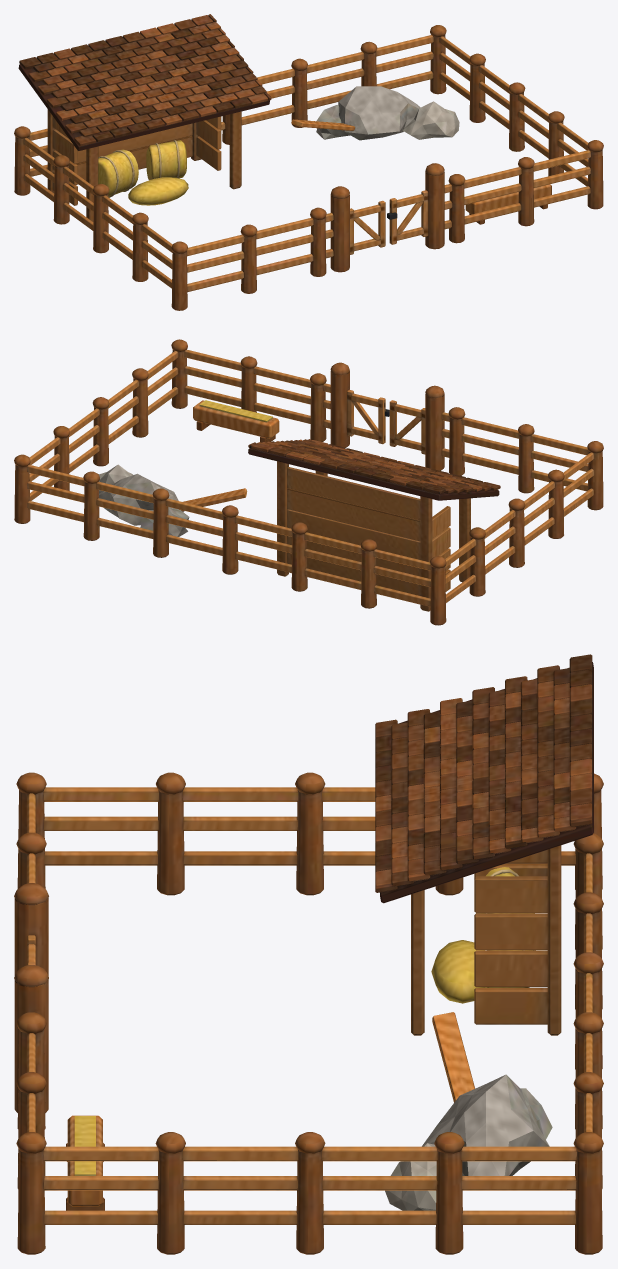
The model's file is angora_yard.glb.
3 views of the same model, one above another, from view 1: azimuth 30°, elevation 25°; view 2: azimuth 150°, elevation 25°; view 3: azimuth 270°, elevation 25° (orthographic). The views are drawn at different scales.
Visible parts, largest first — view 1: angora_yard, gate1, gate0; view 2: angora_yard, gate1, gate0; view 3: angora_yard.
Boxes of the visible parts, x1,y1,x2,y2 form: angora_yard: (14,14,603,310); gate1: (387,190,428,244); gate0: (350,200,385,254); angora_yard: (14,339,603,625); gate1: (347,389,389,444); gate0: (389,400,425,454); angora_yard: (14,654,603,1254).
Size of the model in its own units: 3 by 0.9343 by 2.01.
Materials: 1 (1 with a texture image).
